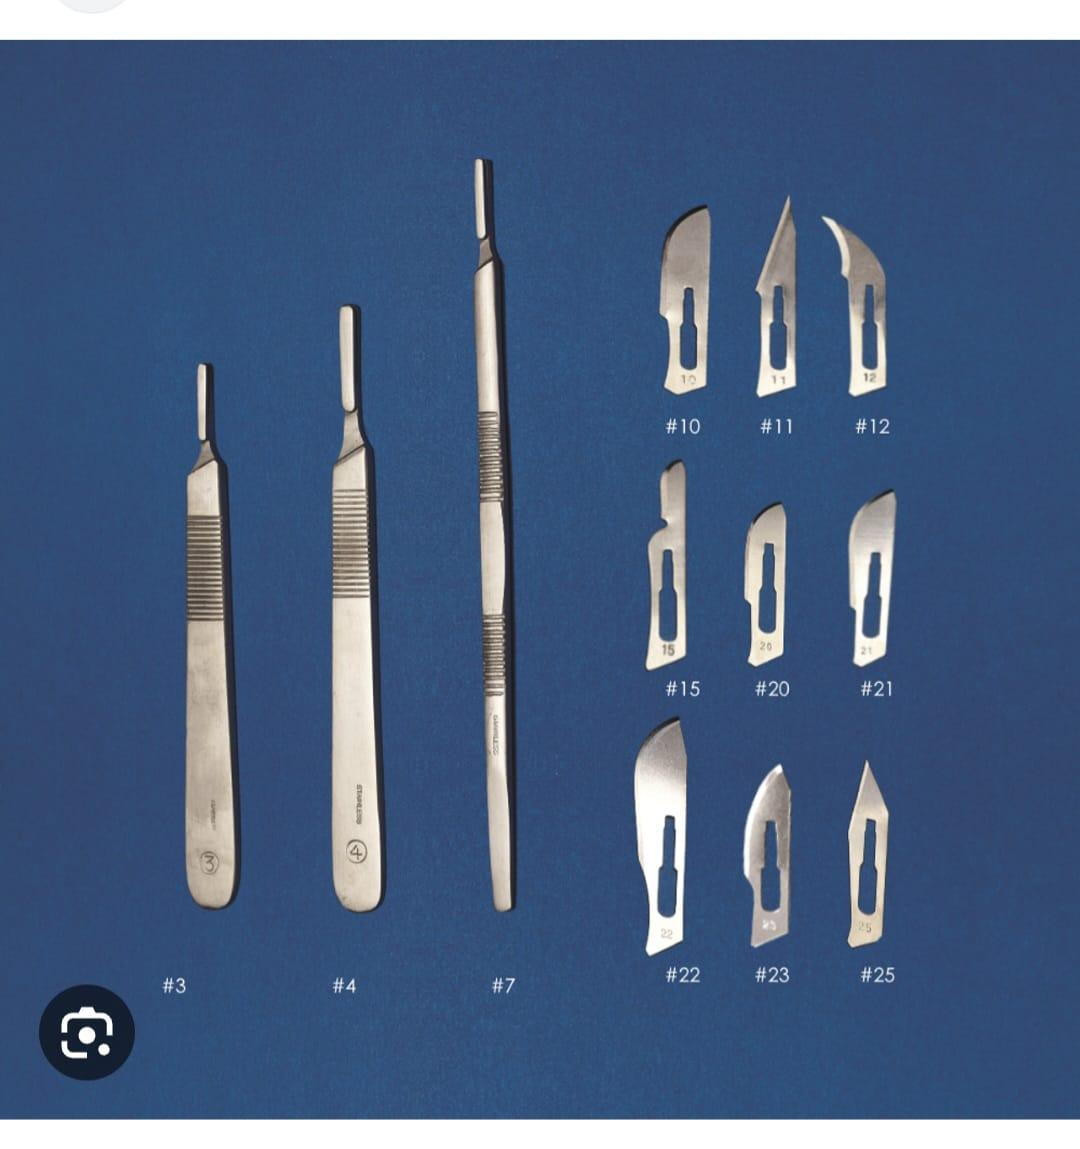Knife handle: (455, 140, 530, 932), (307, 296, 400, 919), (170, 343, 260, 925)
Surgical blade: (610, 715, 714, 965), (642, 187, 722, 408), (820, 205, 906, 407), (738, 187, 812, 405), (831, 477, 906, 672), (830, 756, 901, 958), (733, 491, 810, 672), (729, 755, 799, 952)
